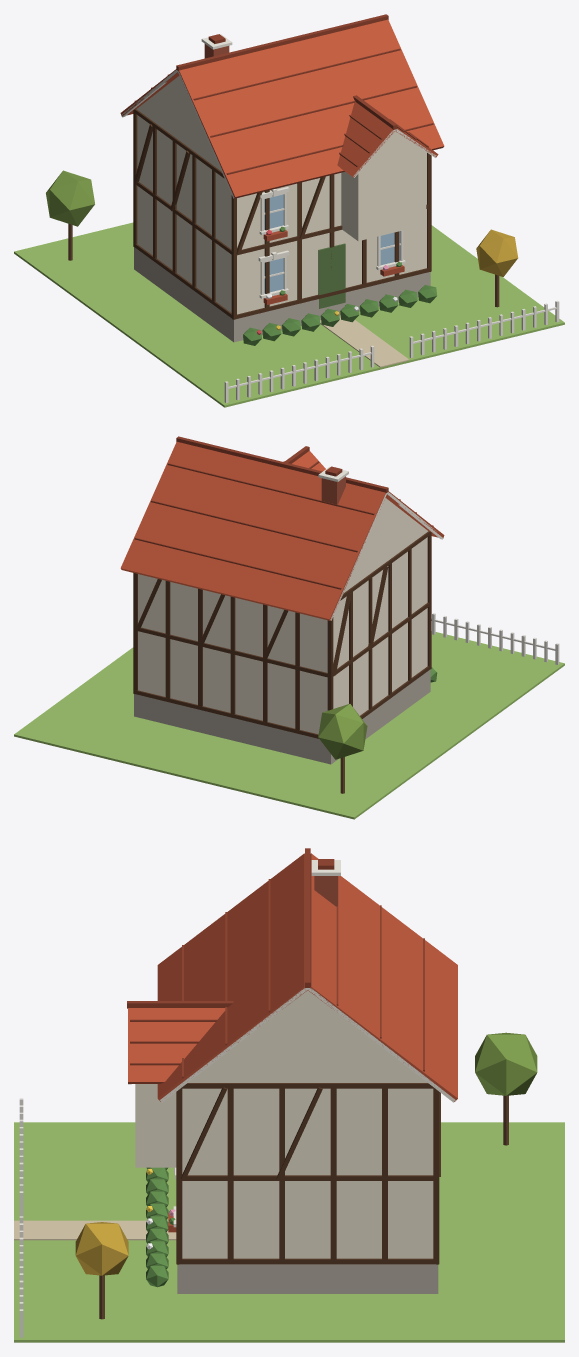
Rendered from Konut_konak_2_Hafif.fbx.
3 renders of one model, top to bottom at view 1: azimuth 30°, elevation 25°; view 2: azimuth 150°, elevation 25°; view 3: azimuth 270°, elevation 25°, orthographic. The views are drawn at different scales.
Parts seen in each view (by area): view 1: Konut_konak_2_Hafif; view 2: Konut_konak_2_Hafif; view 3: Konut_konak_2_Hafif.
Part boxes in pixels (x1=…): Konut_konak_2_Hafif: x1=14, y1=14, x2=564, y2=407; Konut_konak_2_Hafif: x1=14, y1=436, x2=564, y2=819; Konut_konak_2_Hafif: x1=14, y1=848, x2=564, y2=1342.
Bounding box in the file's own units: 14 × 10.04 × 15.
